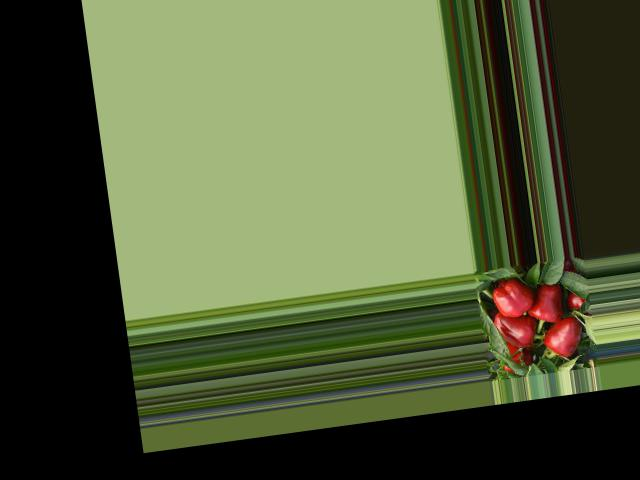bell_pepper: (487, 275, 544, 320)
